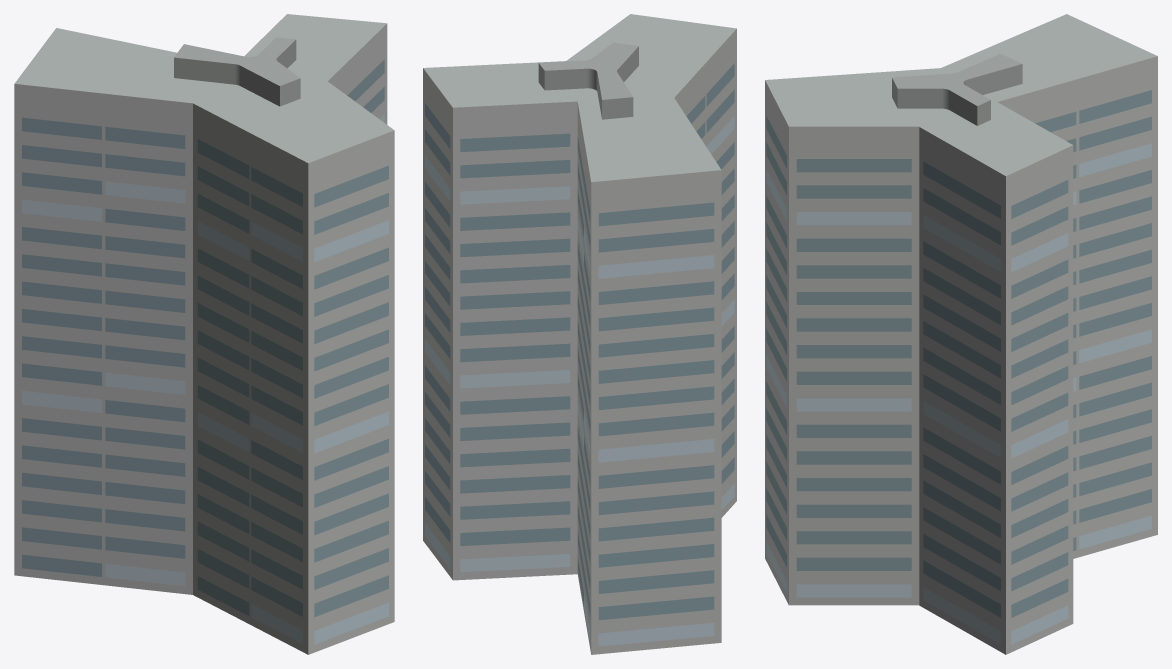
File: fallback-godeok-gracium-140.glb
3 views of the same model, side by side, from view 1: azimuth 30°, elevation 25°; view 2: azimuth 150°, elevation 25°; view 3: azimuth 270°, elevation 25° (orthographic). The views are drawn at different scales.
Visible parts, largest first — view 1: fallback-godeok-gracium-140; view 2: fallback-godeok-gracium-140; view 3: fallback-godeok-gracium-140.
Part boxes in pixels (box(x1,y1,x2,y2)): fallback-godeok-gracium-140: box(14, 14, 394, 654); fallback-godeok-gracium-140: box(423, 14, 736, 654); fallback-godeok-gracium-140: box(765, 14, 1157, 654).
Size of the model in its own units: 41.89 by 60 by 42.85.
